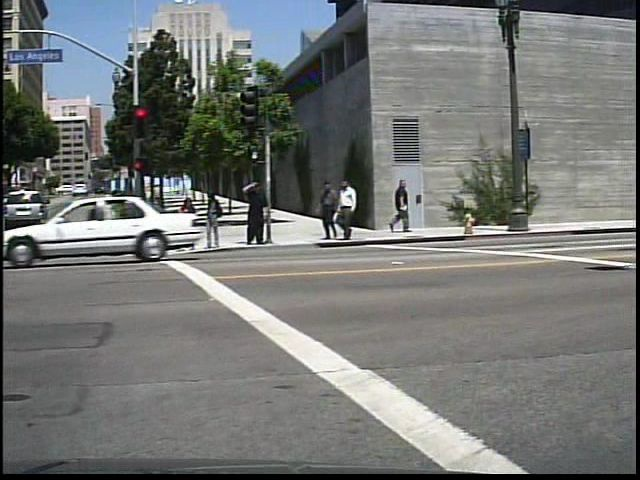person: (389, 173, 421, 238), (247, 173, 273, 248)
